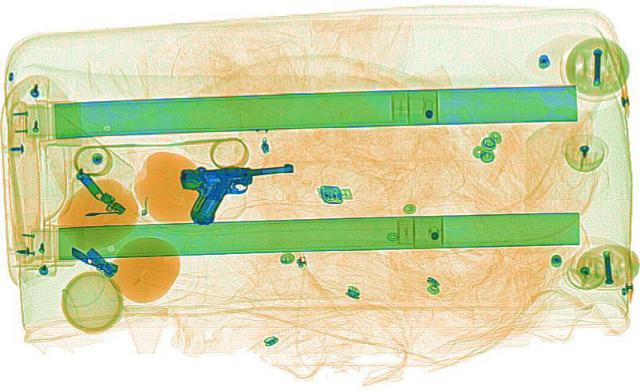Gun: (174, 161, 306, 224)
